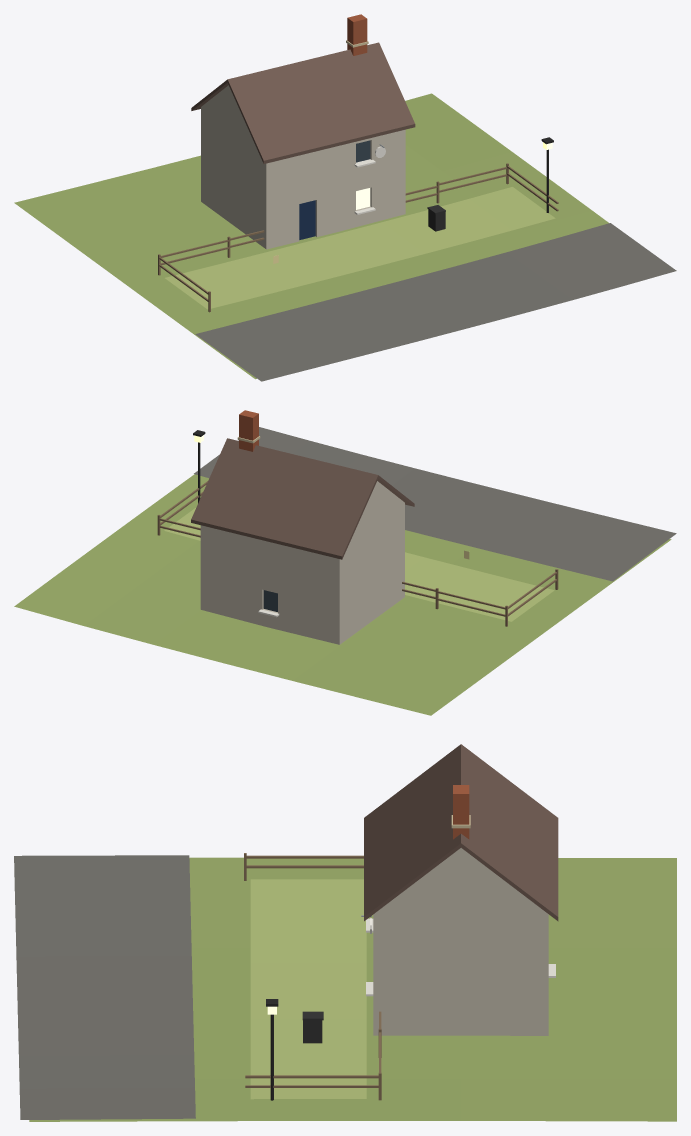
File: last_house-morning.glb
3 renders of one model, top to bottom at view 1: azimuth 30°, elevation 25°; view 2: azimuth 150°, elevation 25°; view 3: azimuth 270°, elevation 25°, orthographic. The views are drawn at different scales.
Visible parts, largest first — view 1: ground, ground_lanes, last_house_shell, cut_roof_last_house, ground_areas, boundaries, last_house_walls; view 2: ground, last_house_shell, ground_lanes, cut_roof_last_house, ground_areas, boundaries; view 3: ground, ground_lanes, last_house_shell, ground_areas, cut_roof_last_house, boundaries, prop_last_bin.
Boxes of the visible parts, bbox=[...] form: ground: bbox=[14, 93, 608, 379]; ground_lanes: bbox=[195, 223, 676, 381]; last_house_shell: bbox=[201, 85, 405, 249]; cut_roof_last_house: bbox=[191, 14, 415, 163]; ground_areas: bbox=[165, 187, 555, 309]; boundaries: bbox=[158, 163, 558, 312]; last_house_walls: bbox=[299, 140, 375, 239]; ground: bbox=[14, 474, 671, 715]; last_house_shell: bbox=[200, 481, 404, 644]; ground_lanes: bbox=[194, 427, 676, 581]; cut_roof_last_house: bbox=[191, 410, 414, 559]; ground_areas: bbox=[164, 507, 554, 621]; boundaries: bbox=[157, 481, 558, 626]; ground: bbox=[29, 857, 676, 1121]; ground_lanes: bbox=[14, 855, 195, 1119]; last_house_shell: bbox=[373, 848, 548, 1035]; ground_areas: bbox=[250, 879, 366, 1099]; cut_roof_last_house: bbox=[364, 744, 558, 921]; boundaries: bbox=[244, 853, 381, 1100]; prop_last_bin: bbox=[302, 1011, 323, 1043].
Size of the model in its own units: 24.06 by 10.23 by 24.57.
